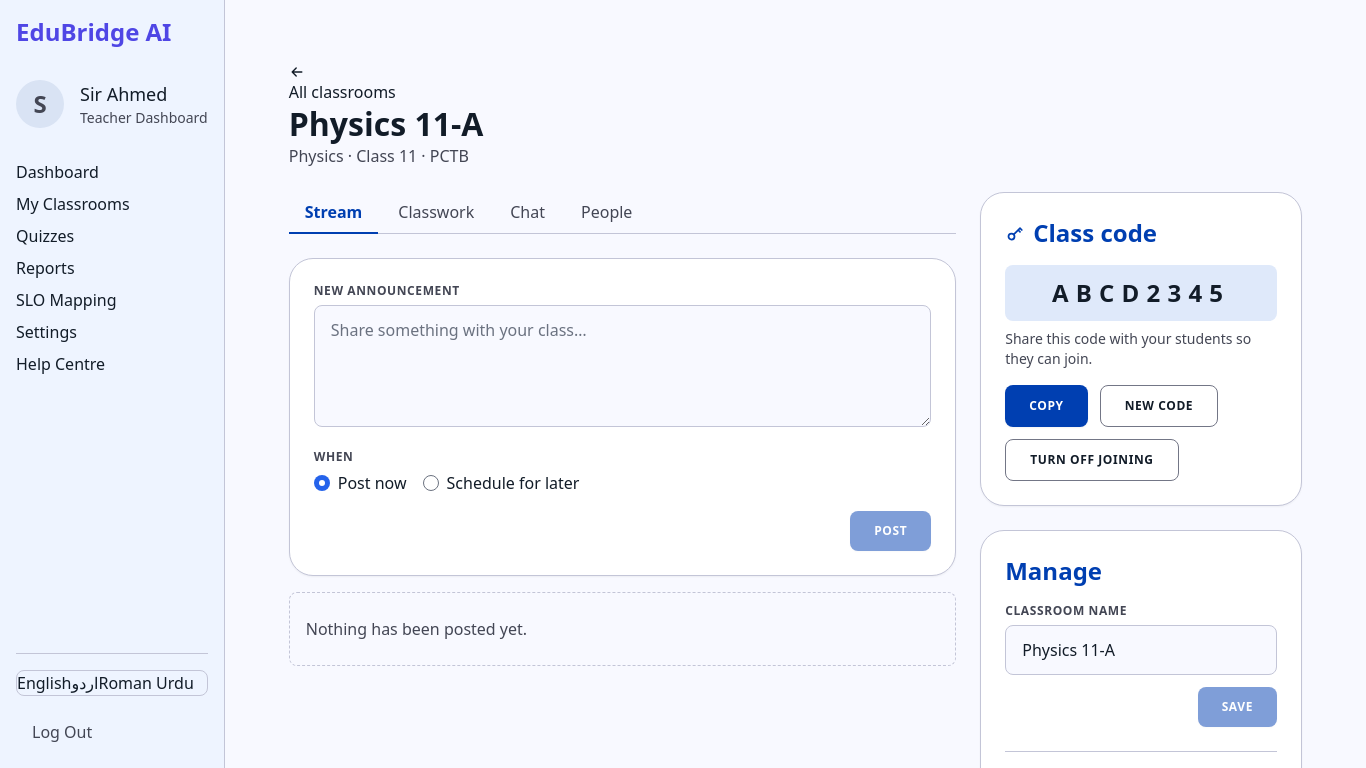
Test: the owner › mutes a student in the chat and unmutes them
Click the tab "People" at x=607, y=213, box [565,192,648,234]
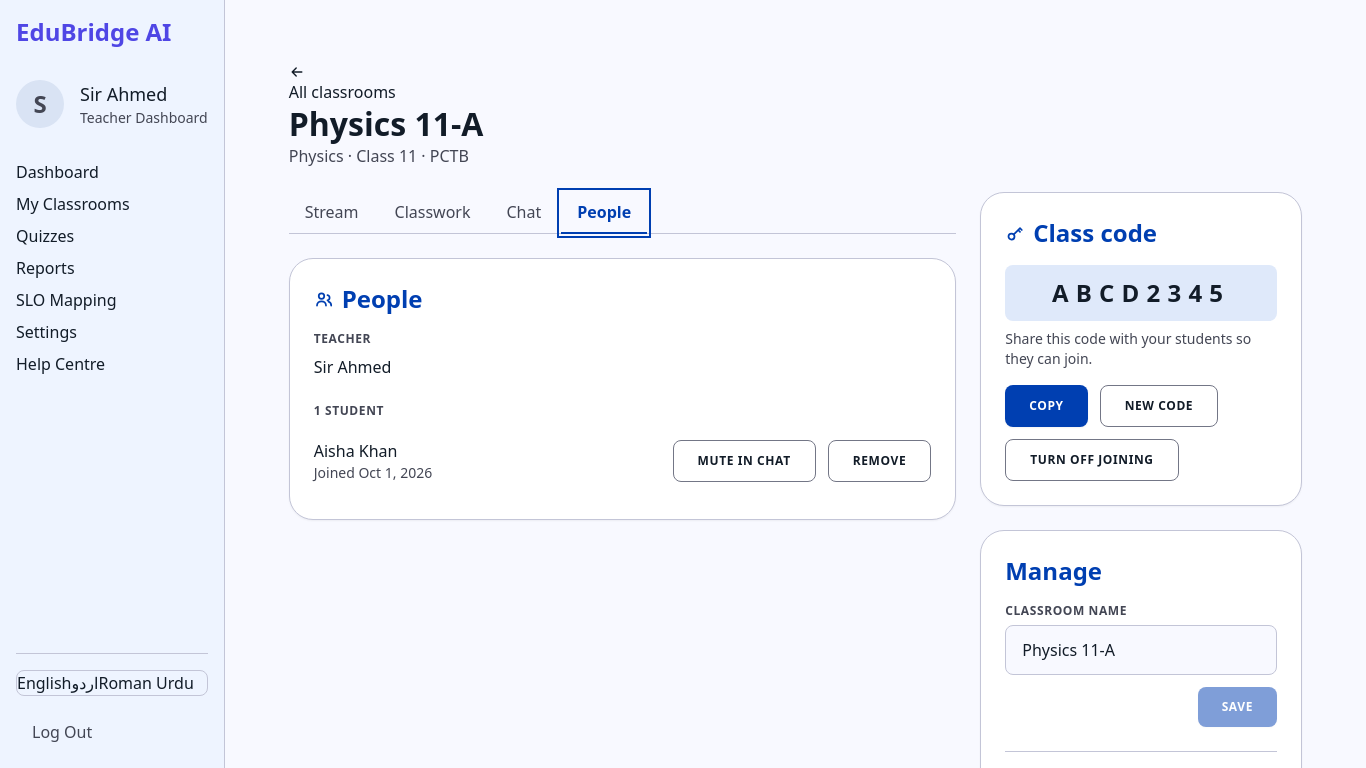
Click the button "Mute in chat" at x=744, y=461, box [673,440,816,482]
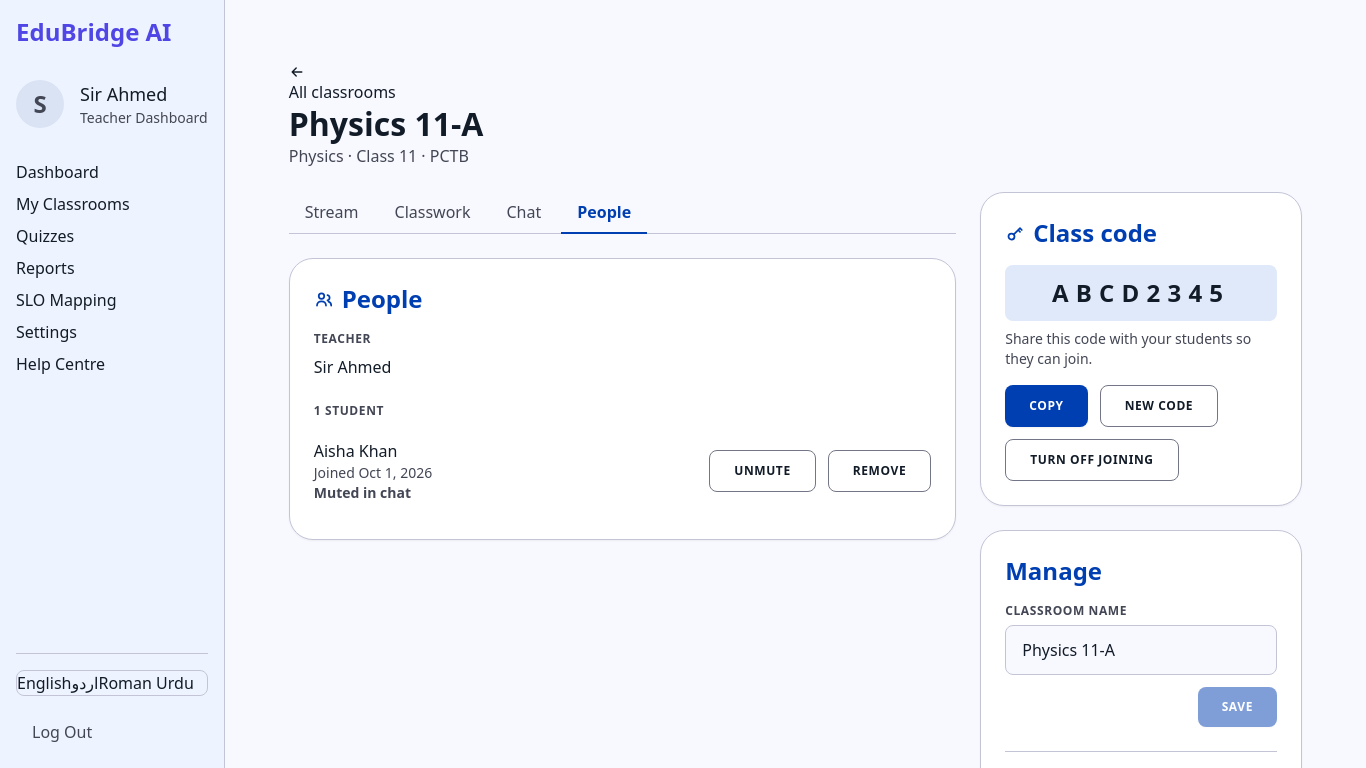
Now the text "Muted in chat" is shown, box [314,483,411,502]
Click the button "Unmute" at x=762, y=471, box [709,450,816,492]
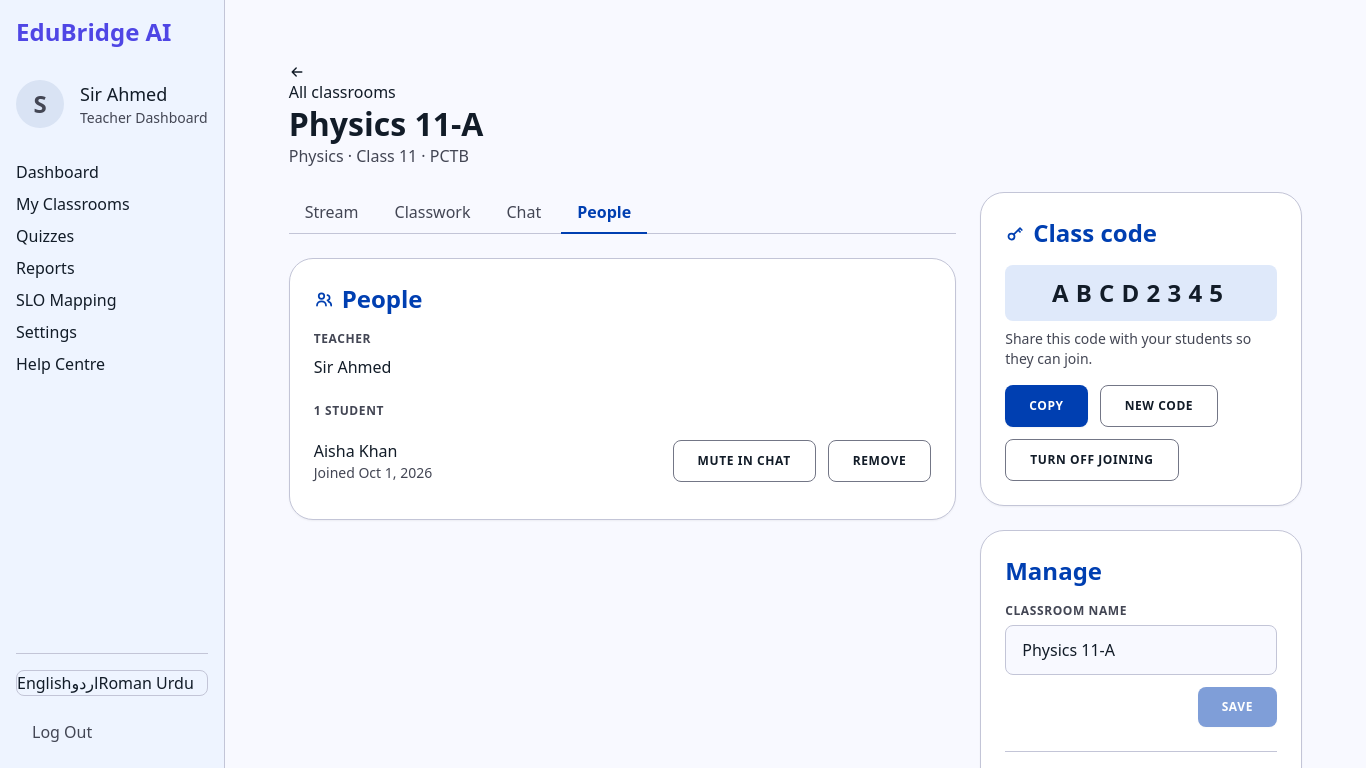
Now the text "Muted in chat" is gone
